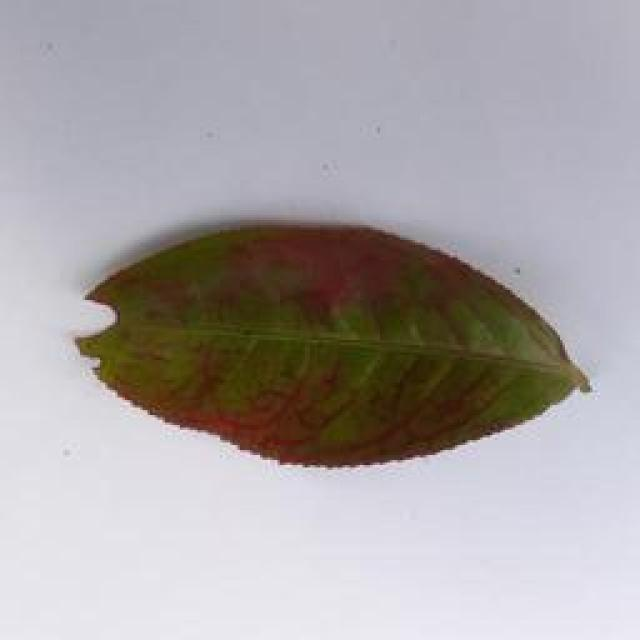Red Leaf Spot: (60, 231, 640, 499)
